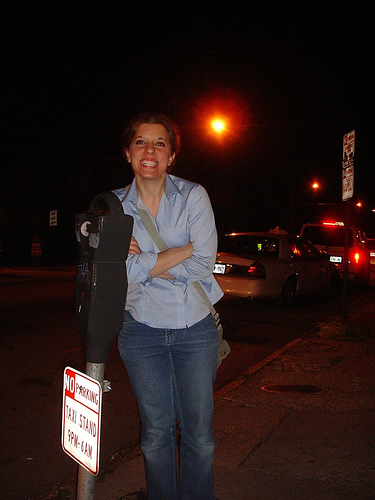car: (295, 217, 372, 289)
